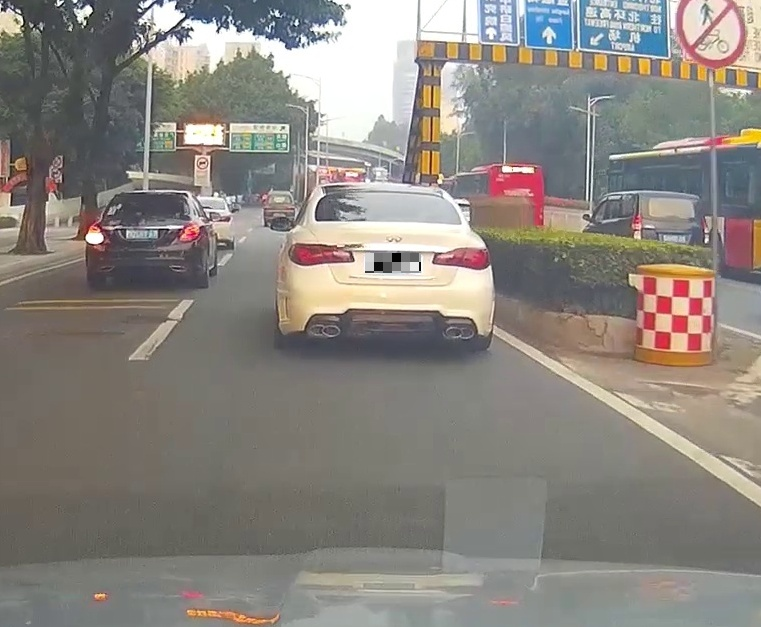L_light: (288, 242, 355, 266), (85, 223, 106, 245)
R_light: (432, 246, 491, 270), (177, 220, 201, 242)
T_light: (372, 192, 402, 197), (143, 192, 160, 195)
day-left: (84, 190, 208, 289)
day-no: (279, 182, 495, 351)
plate_1: (365, 253, 421, 273)
